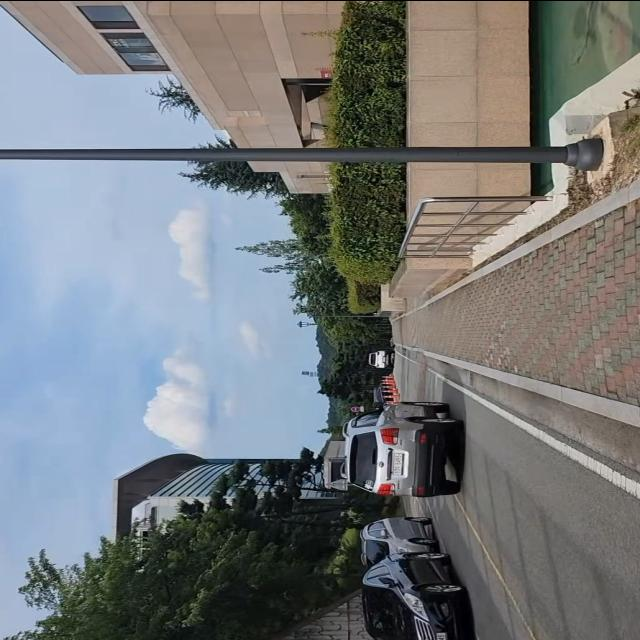obstacle: (342, 512, 473, 640), (331, 396, 470, 506), (359, 346, 400, 369)
road: (386, 342, 640, 640)
sidewalk: (392, 169, 640, 420)
